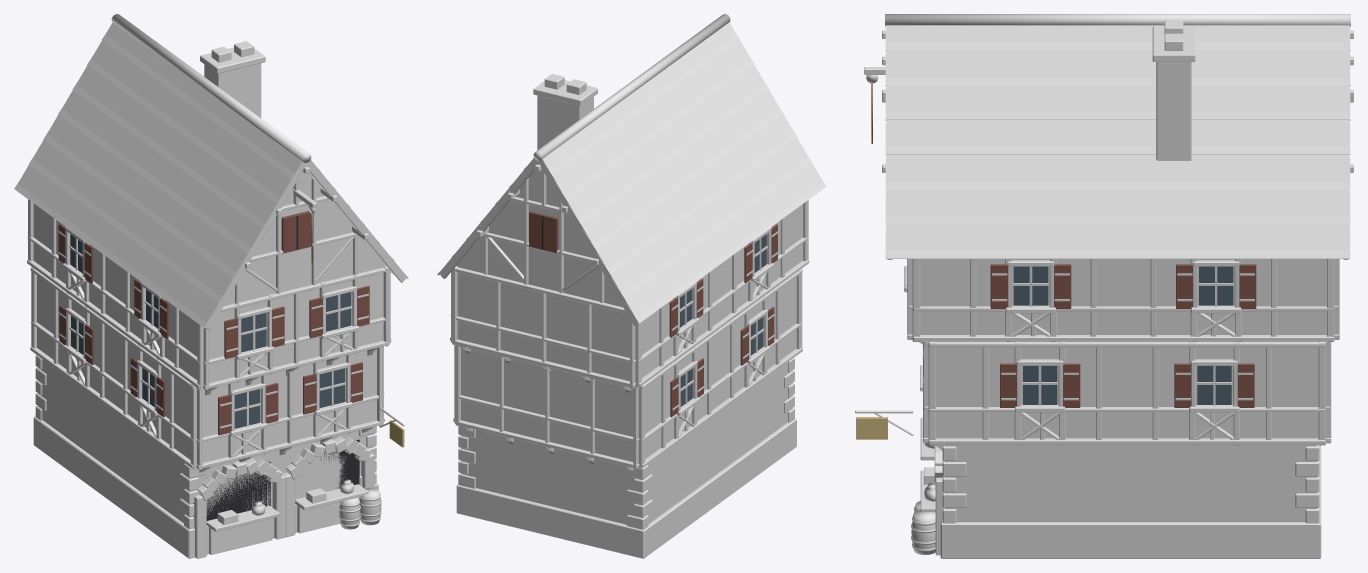
The model's file is ville_07_pignon_taverne.fbx.
The picture shows the model from 3 angles, left to right: view 1: azimuth 30°, elevation 25°; view 2: azimuth 150°, elevation 25°; view 3: azimuth 270°, elevation 25°; orthographic projection. The views are drawn at different scales.
Visible parts, largest first — view 1: ville_07_pignon_taverne_LOD0; view 2: ville_07_pignon_taverne_LOD0; view 3: ville_07_pignon_taverne_LOD0.
Part boxes in pixels (<box>): ville_07_pignon_taverne_LOD0: <box>14,14,408,558</box>; ville_07_pignon_taverne_LOD0: <box>437,14,826,558</box>; ville_07_pignon_taverne_LOD0: <box>855,14,1353,558</box>.
Size of what is drawn, in the model's own units: 6.22 by 11.82 by 10.72.
